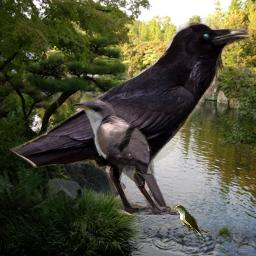Crow: (8, 16, 252, 215)
Cuckoo: (71, 96, 167, 211), (173, 204, 207, 244)
